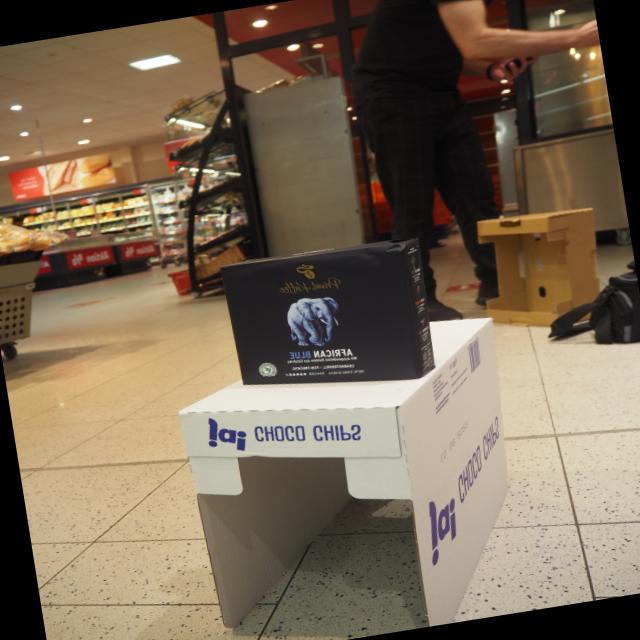AB Gemahlen: (218, 241, 424, 386)
